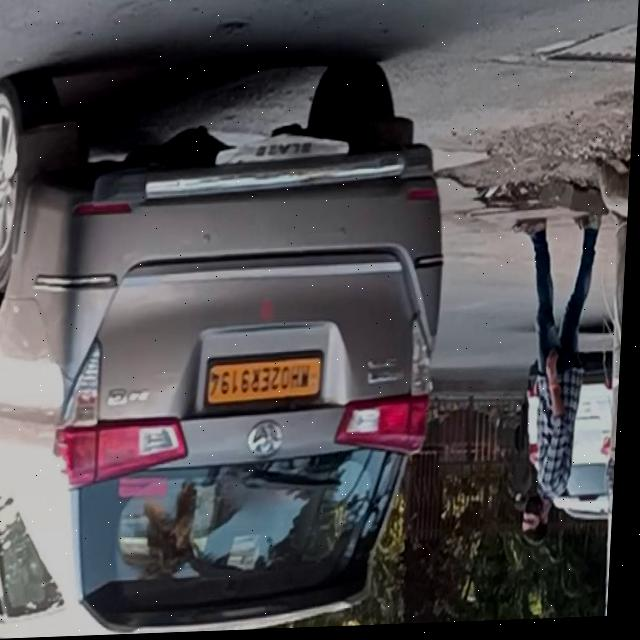plate: (202, 347, 332, 414)
